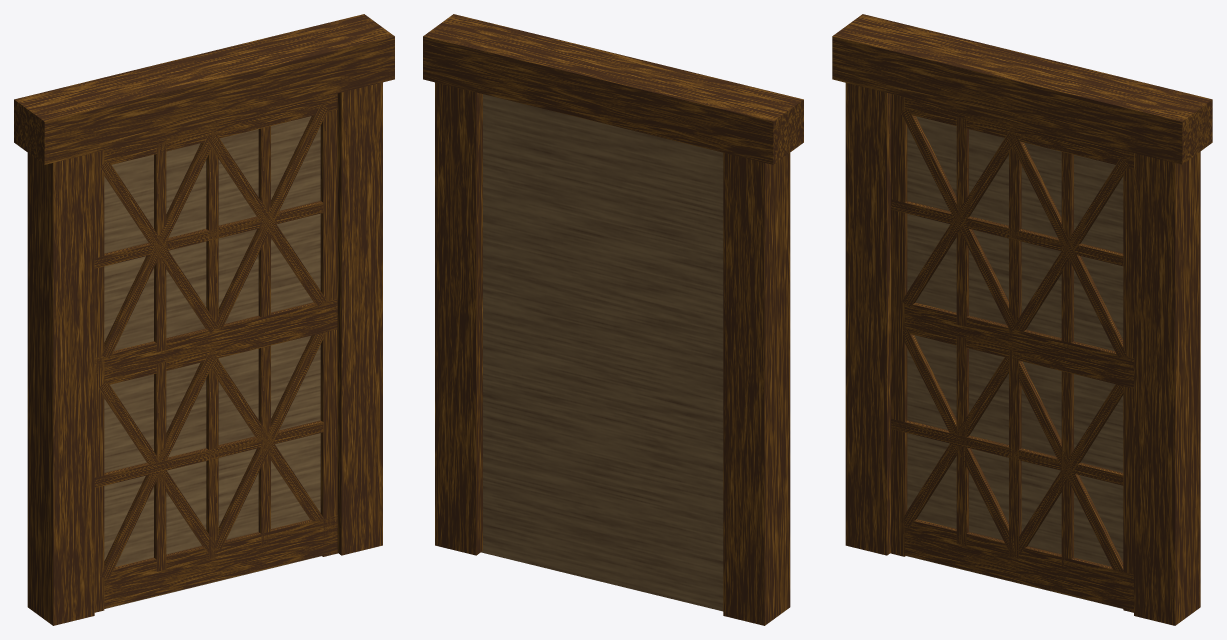
Rendered from Door Single.fbx.
The picture shows the model from 3 angles, left to right: view 1: azimuth 30°, elevation 25°; view 2: azimuth 150°, elevation 25°; view 3: azimuth 330°, elevation 25°; orthographic projection.
Parts seen in each view (by area): view 1: Cube.001; view 2: Cube.001; view 3: Cube.001.
Boxes of the visible parts, <box> form: Cube.001: <box>14,14,394,625</box>; Cube.001: <box>423,14,803,625</box>; Cube.001: <box>832,14,1212,625</box>.
Bounding box in the file's own units: 26.65 × 177 × 246.
